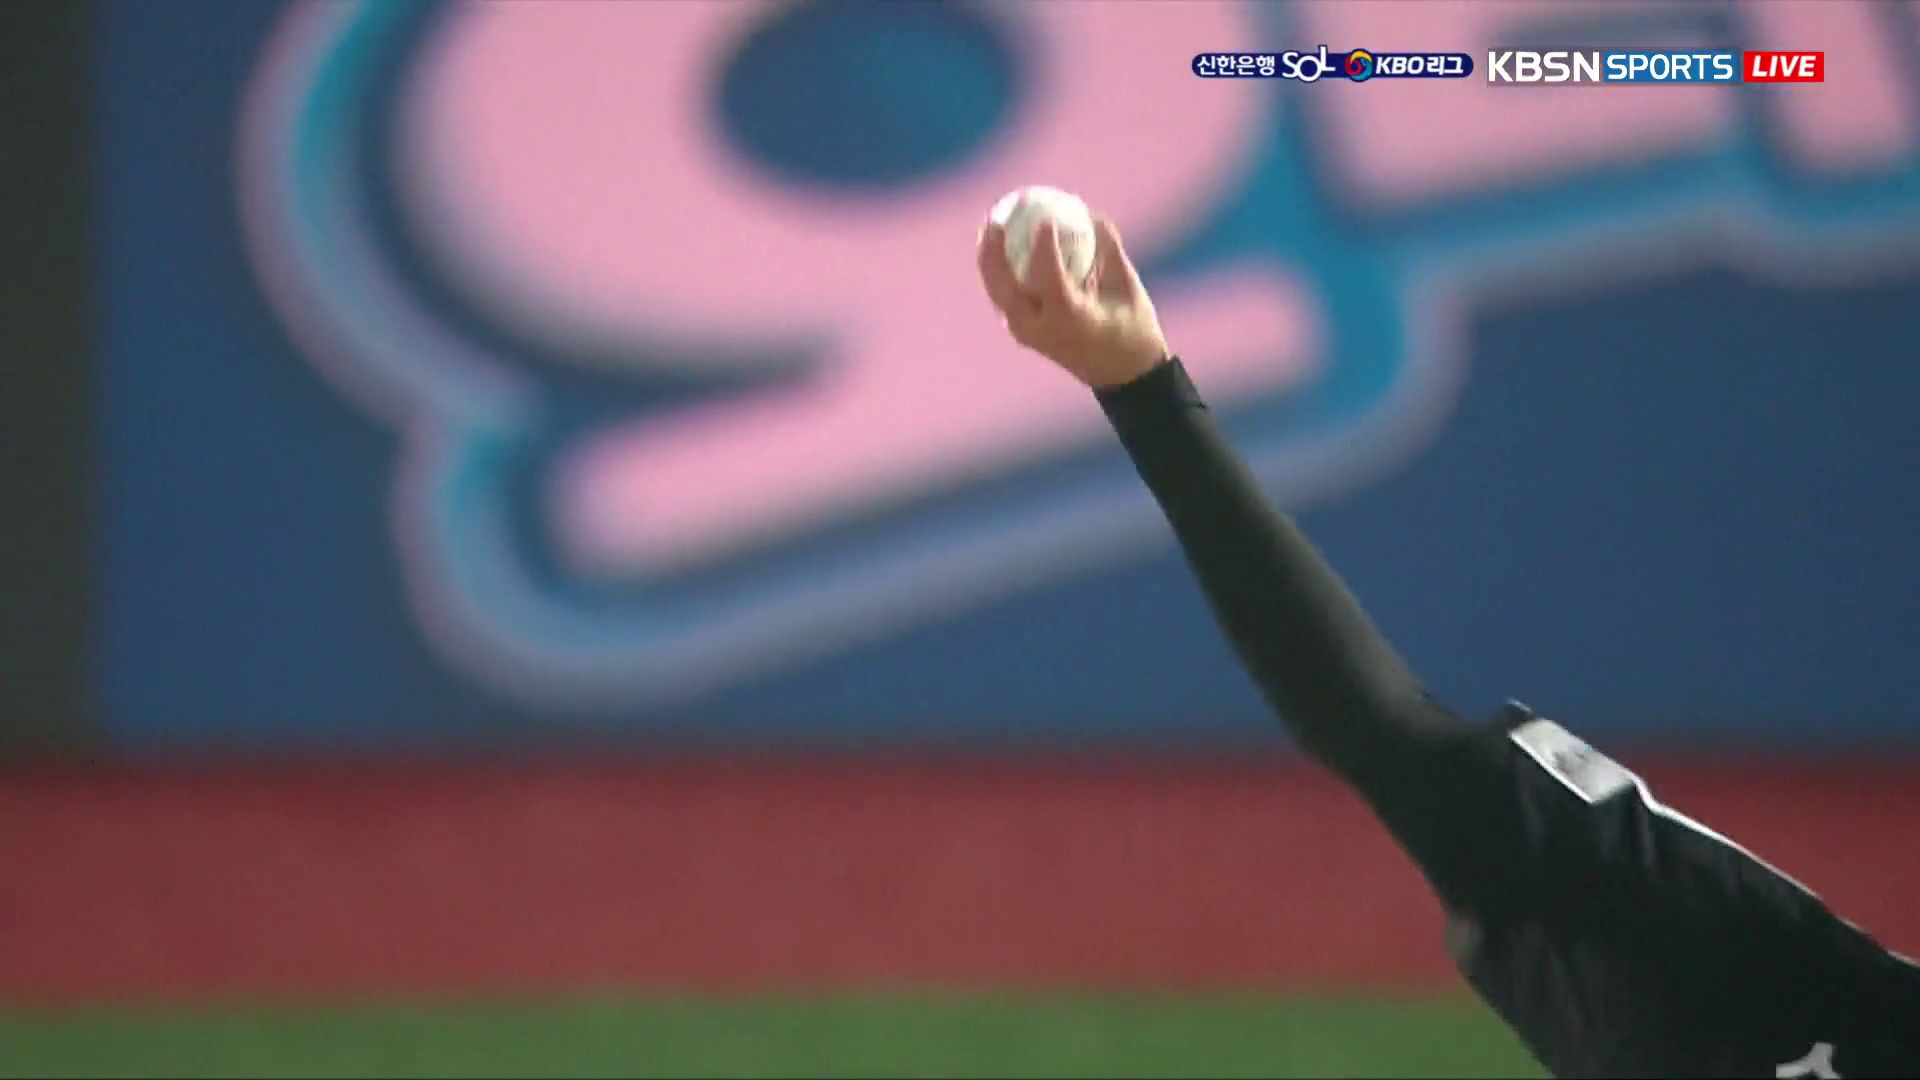zoomin_hand: (963, 174, 1441, 785)
